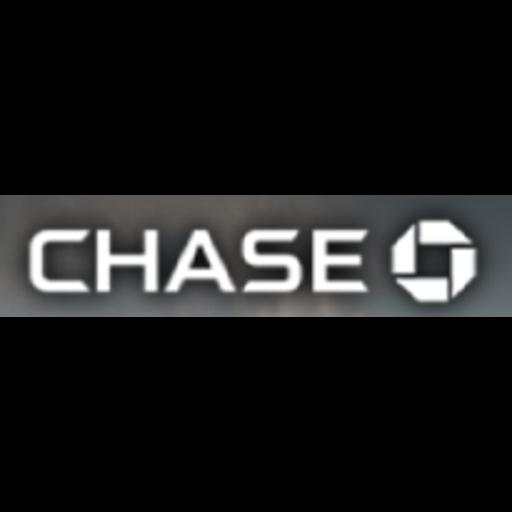Chase Personal Banking: (0, 195, 512, 317)
